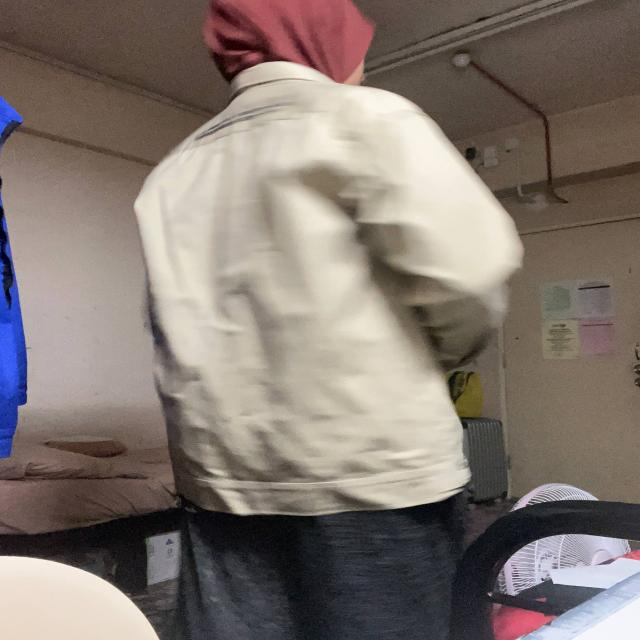person_with_labcoat: (135, 0, 523, 640), (0, 116, 297, 454)
